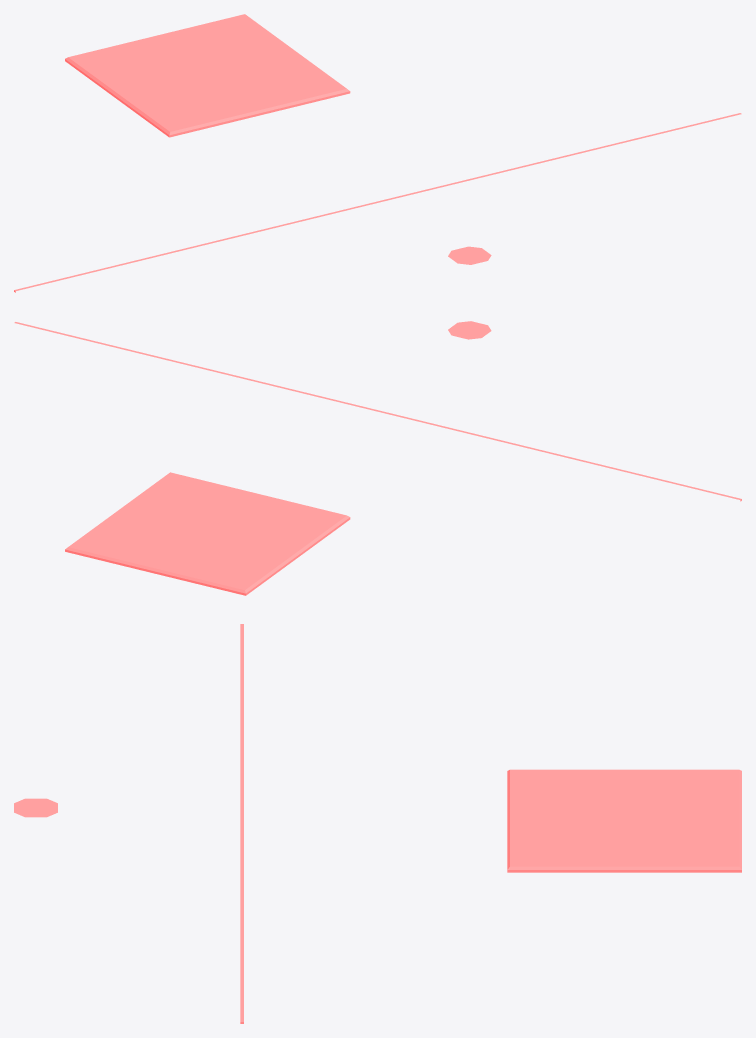
File: powerRedGlow.glb
3 views of the same model, one above another, from view 1: azimuth 30°, elevation 25°; view 2: azimuth 150°, elevation 25°; view 3: azimuth 270°, elevation 25° (orthographic). The views are drawn at different scales.
Visible parts, largest first — view 1: powerRedGlow; view 2: powerRedGlow; view 3: powerRedGlow.
Boxes of the visible parts, left/top/right/bottom form: powerRedGlow: left=14, top=14, right=741, bottom=292; powerRedGlow: left=14, top=321, right=741, bottom=595; powerRedGlow: left=14, top=624, right=741, bottom=1023.
Size of the model in its own units: 16 by 0.3173 by 12.37.
